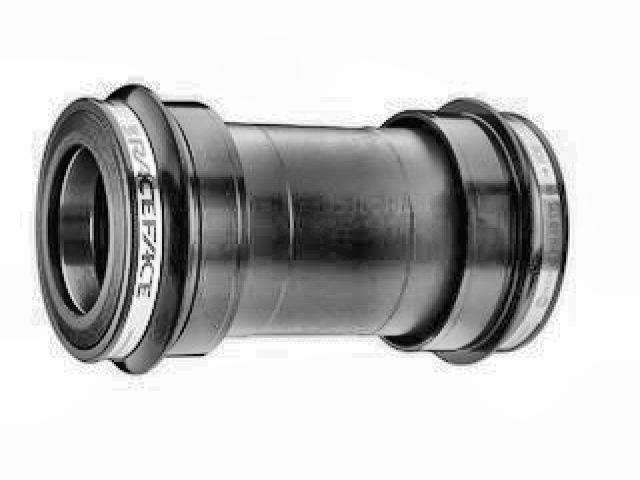bottom_bracket: (29, 79, 571, 375)
